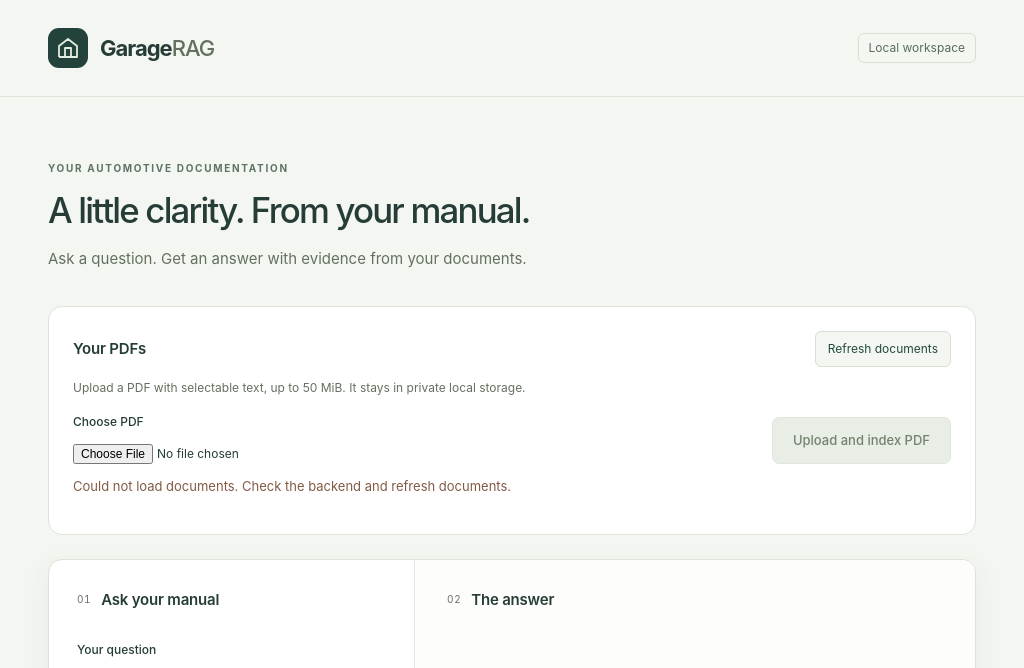
Test: PDF management › reports a list error and refreshes it on request
Expected: the message shows "documents", [73,478,511,494]
Click the button "Refresh documents". click: (883, 349)
box: [815,331,951,367]
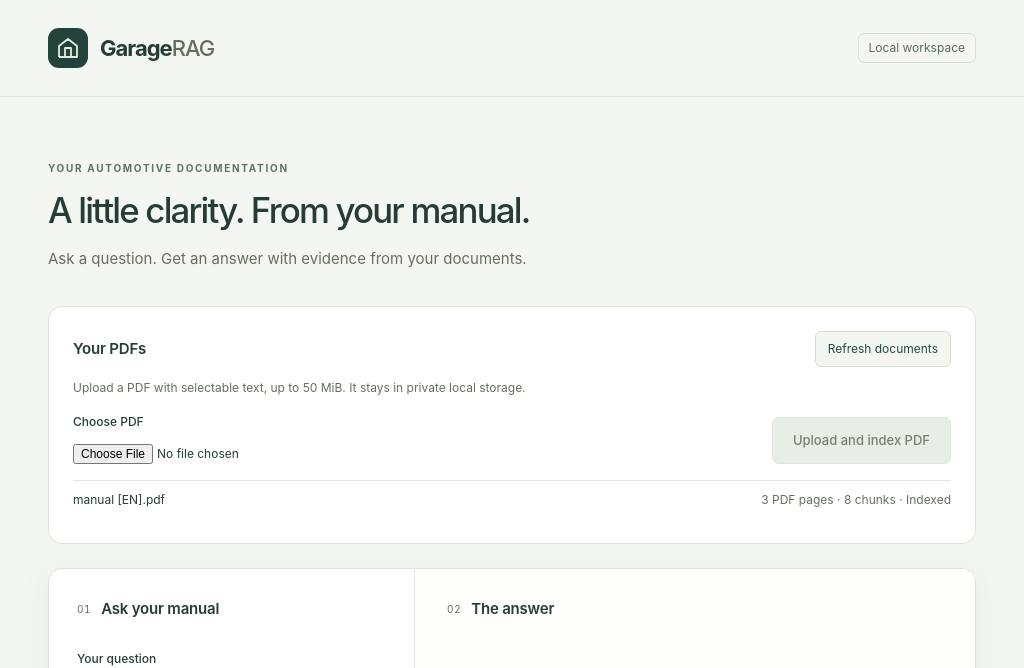
Expected: the text "manual [EN].pdf" is shown, [73,491,165,509]
Expected: the message "Could not load documents. Check the backend and refresh documents." is gone
